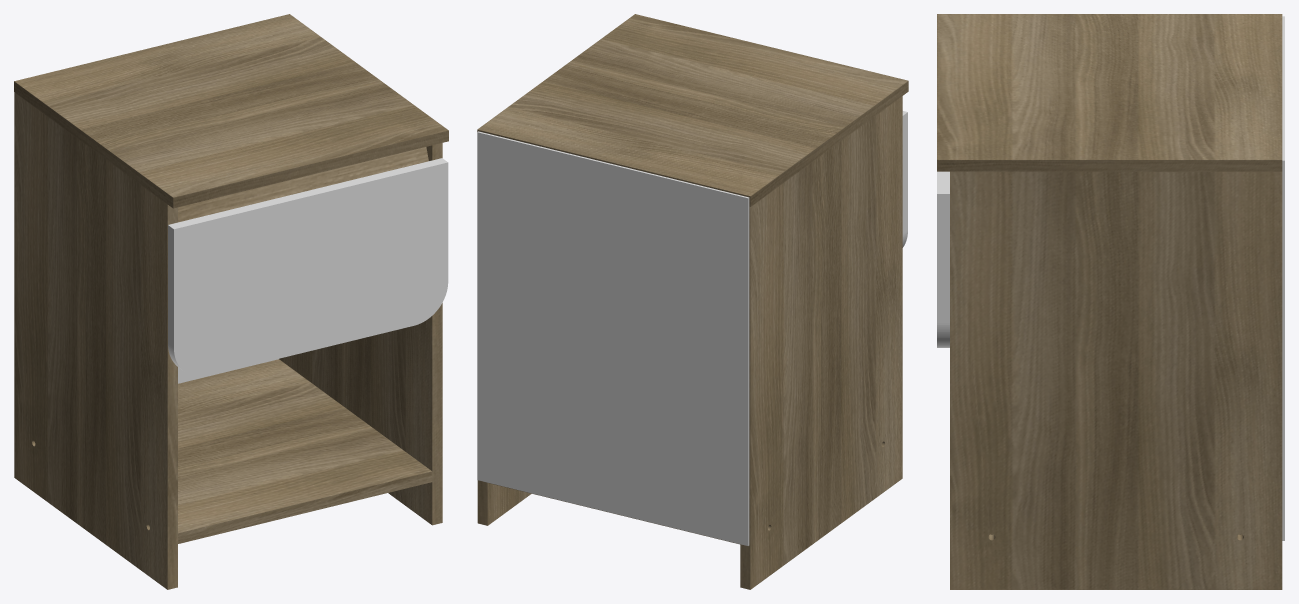
The picture shows the model from 3 angles, left to right: view 1: azimuth 30°, elevation 25°; view 2: azimuth 150°, elevation 25°; view 3: azimuth 270°, elevation 25°; orthographic projection. The views are drawn at different scales.
Parts seen in each view (by area): view 1: A732270-COSTADOSCO; view 2: A732270-COSTADOSCO; view 3: A732270-COSTADOSCO.
Boxes of the visible parts, <box> form: A732270-COSTADOSCO: <box>14,14,448,589</box>; A732270-COSTADOSCO: <box>477,14,908,589</box>; A732270-COSTADOSCO: <box>937,14,1284,589</box>.
Bounding box in the file's own units: 4 × 5.5 × 4.03.
1 material, 1 textured.
